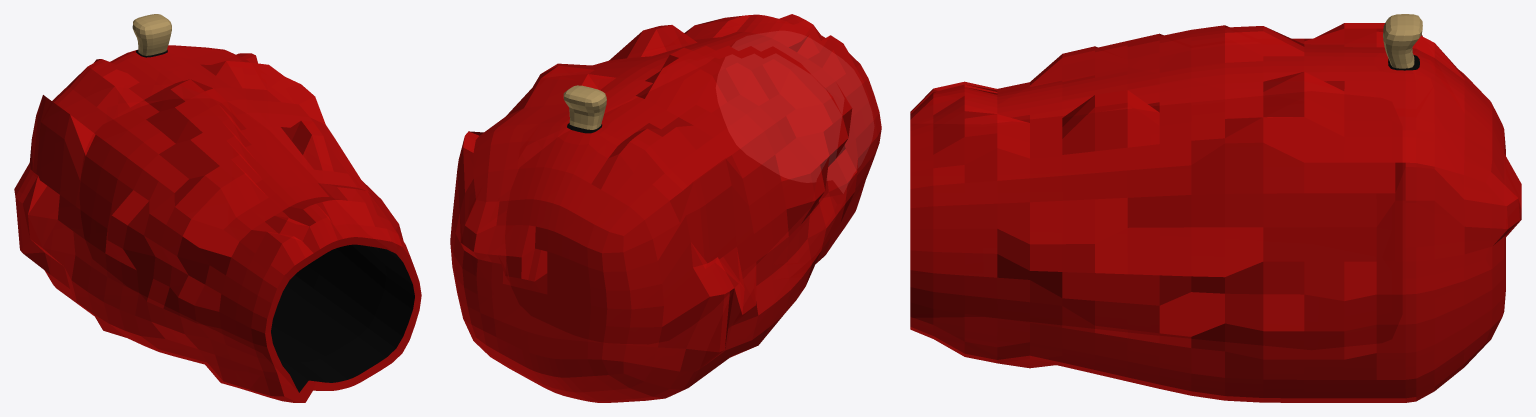
File: Canon.V3Part1.fbx
3 views of the same model, side by side, from view 1: azimuth 30°, elevation 25°; view 2: azimuth 150°, elevation 25°; view 3: azimuth 270°, elevation 25° (orthographic). The views are drawn at different scales.
Visible parts, largest first — view 1: cANON.001; view 2: cANON.001; view 3: cANON.001.
Part boxes in pixels (x1,y1,x2,y2): cANON.001: (14, 14, 421, 402); cANON.001: (450, 14, 881, 402); cANON.001: (910, 14, 1521, 402).
Size of the model in its own units: 94.73 by 95.73 by 148.
